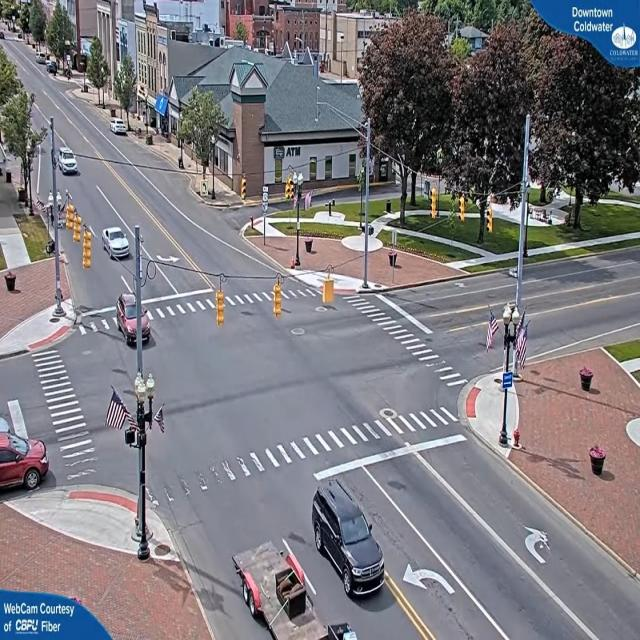car: (314, 473, 389, 606), (0, 418, 48, 498), (114, 298, 152, 347), (104, 227, 132, 258), (56, 146, 78, 176), (111, 120, 129, 136)
